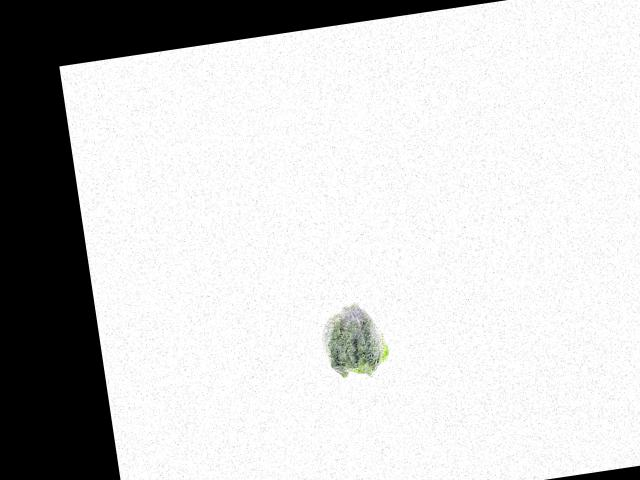lettuce: (315, 299, 395, 382)
